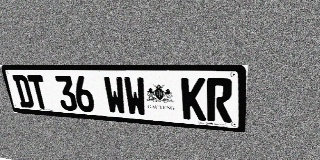3: (55, 76, 78, 111)
6: (72, 76, 96, 113)
D: (12, 75, 35, 108)
K: (181, 78, 206, 121)
R: (206, 78, 233, 123)
T: (27, 75, 50, 109)
W: (123, 77, 148, 117), (103, 76, 127, 115)
